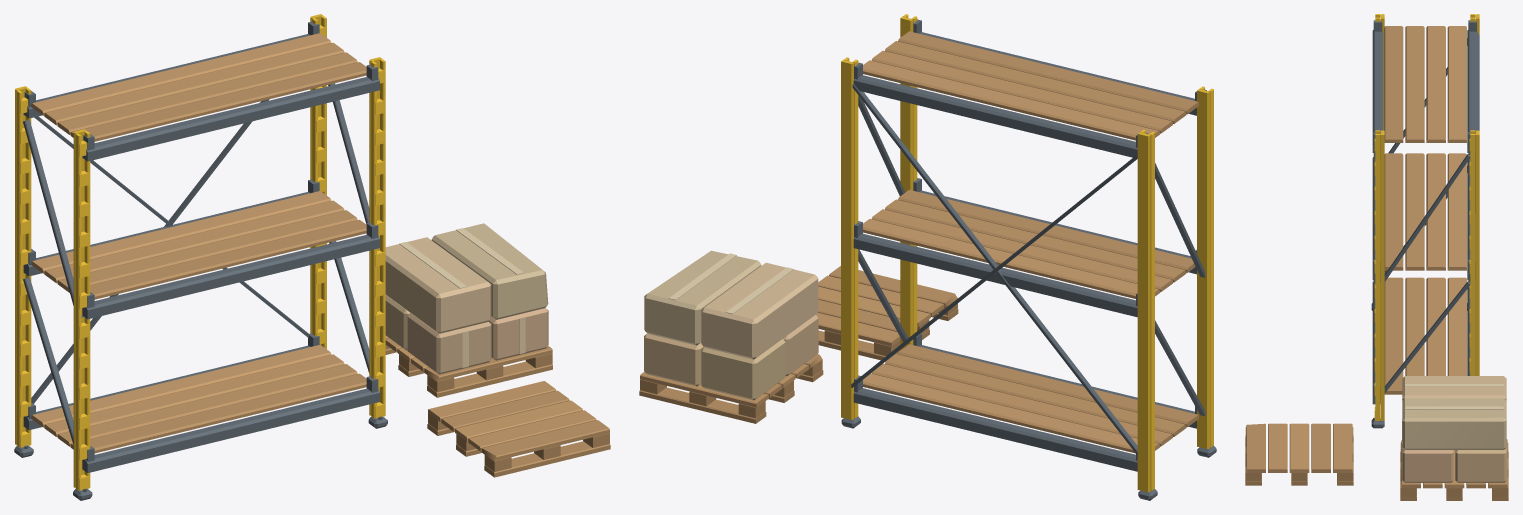
The model's file is ShedRackSet.glb.
3 views of the same model, side by side, from view 1: azimuth 30°, elevation 25°; view 2: azimuth 150°, elevation 25°; view 3: azimuth 270°, elevation 25° (orthographic). The views are drawn at different scales.
Visible parts, largest first — view 1: Rack_Wood, Rack_Charcoal, Rack_Crane, CartonStack_White, Pallet_Wood, CartonStack_Wood; view 2: Rack_Wood, Rack_Charcoal, Rack_Crane, CartonStack_White, Pallet_Wood, CartonStack_Wood; view 3: Rack_Wood, CartonStack_White, Rack_Charcoal, Rack_Crane, Pallet_Wood, CartonStack_Wood.
Boxes of the visible parts, x1,y1,x2,y2 form: Rack_Wood: [31, 33, 366, 453]; Rack_Charcoal: [14, 21, 387, 500]; Rack_Crane: [15, 14, 385, 490]; CartonStack_White: [385, 223, 548, 374]; Pallet_Wood: [427, 381, 610, 477]; CartonStack_Wood: [385, 336, 552, 397]; Rack_Wood: [863, 31, 1198, 453]; Rack_Charcoal: [841, 19, 1216, 500]; Rack_Crane: [841, 14, 1213, 492]; CartonStack_White: [644, 250, 818, 400]; Pallet_Wood: [816, 266, 958, 360]; CartonStack_Wood: [639, 354, 823, 423]; Rack_Wood: [1384, 26, 1466, 394]; CartonStack_White: [1402, 376, 1506, 482]; Rack_Charcoal: [1371, 20, 1479, 428]; Rack_Crane: [1374, 14, 1479, 420]; Pallet_Wood: [1245, 423, 1353, 485]; CartonStack_Wood: [1400, 439, 1508, 500].
Bounding box in the file's own units: 12.7 × 9 × 7.3.
